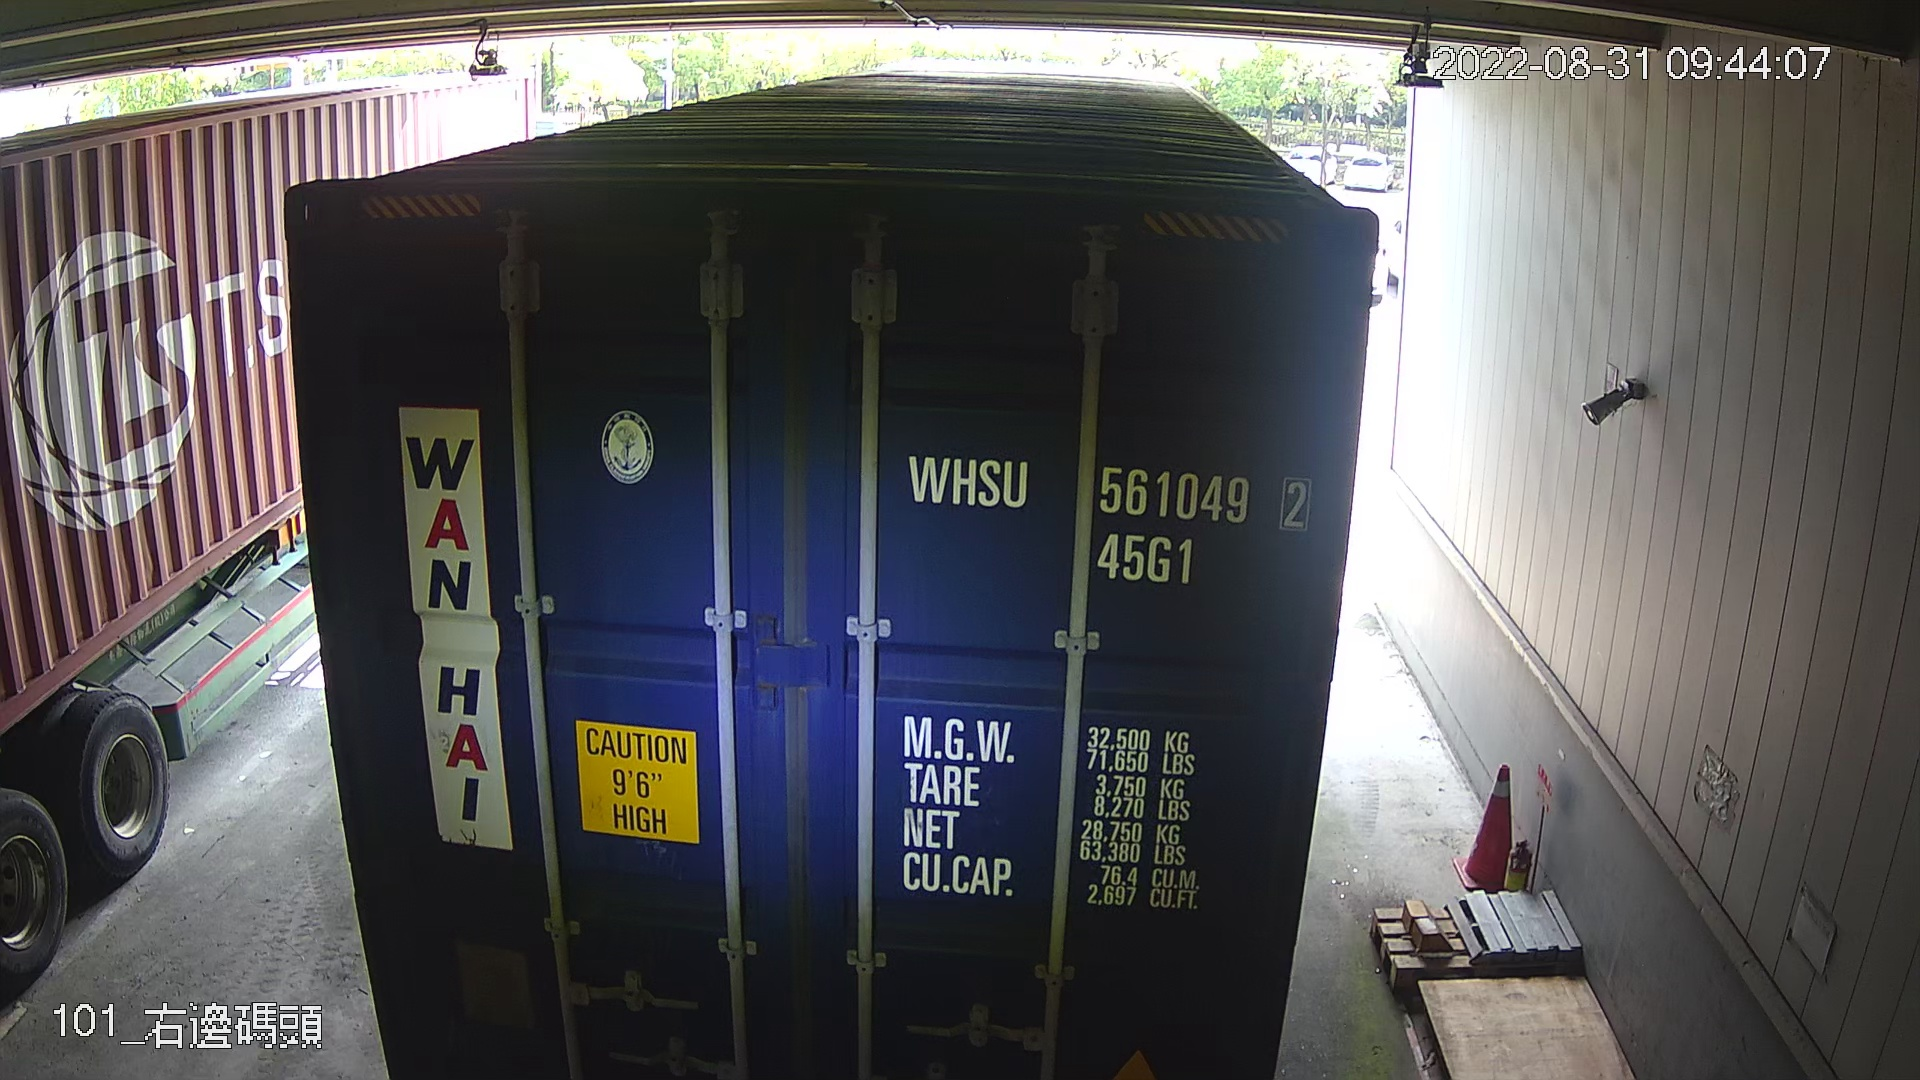container: (889, 439, 1323, 597)
